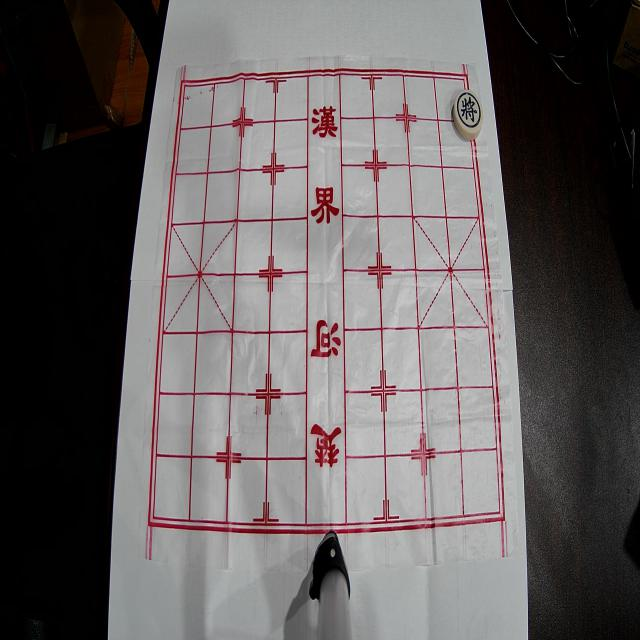black-general: (453, 90, 483, 140)
